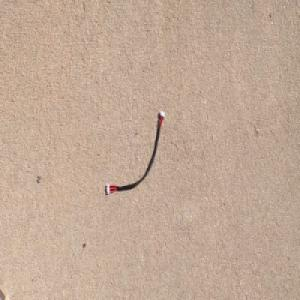Wire: (105, 109, 165, 196)
